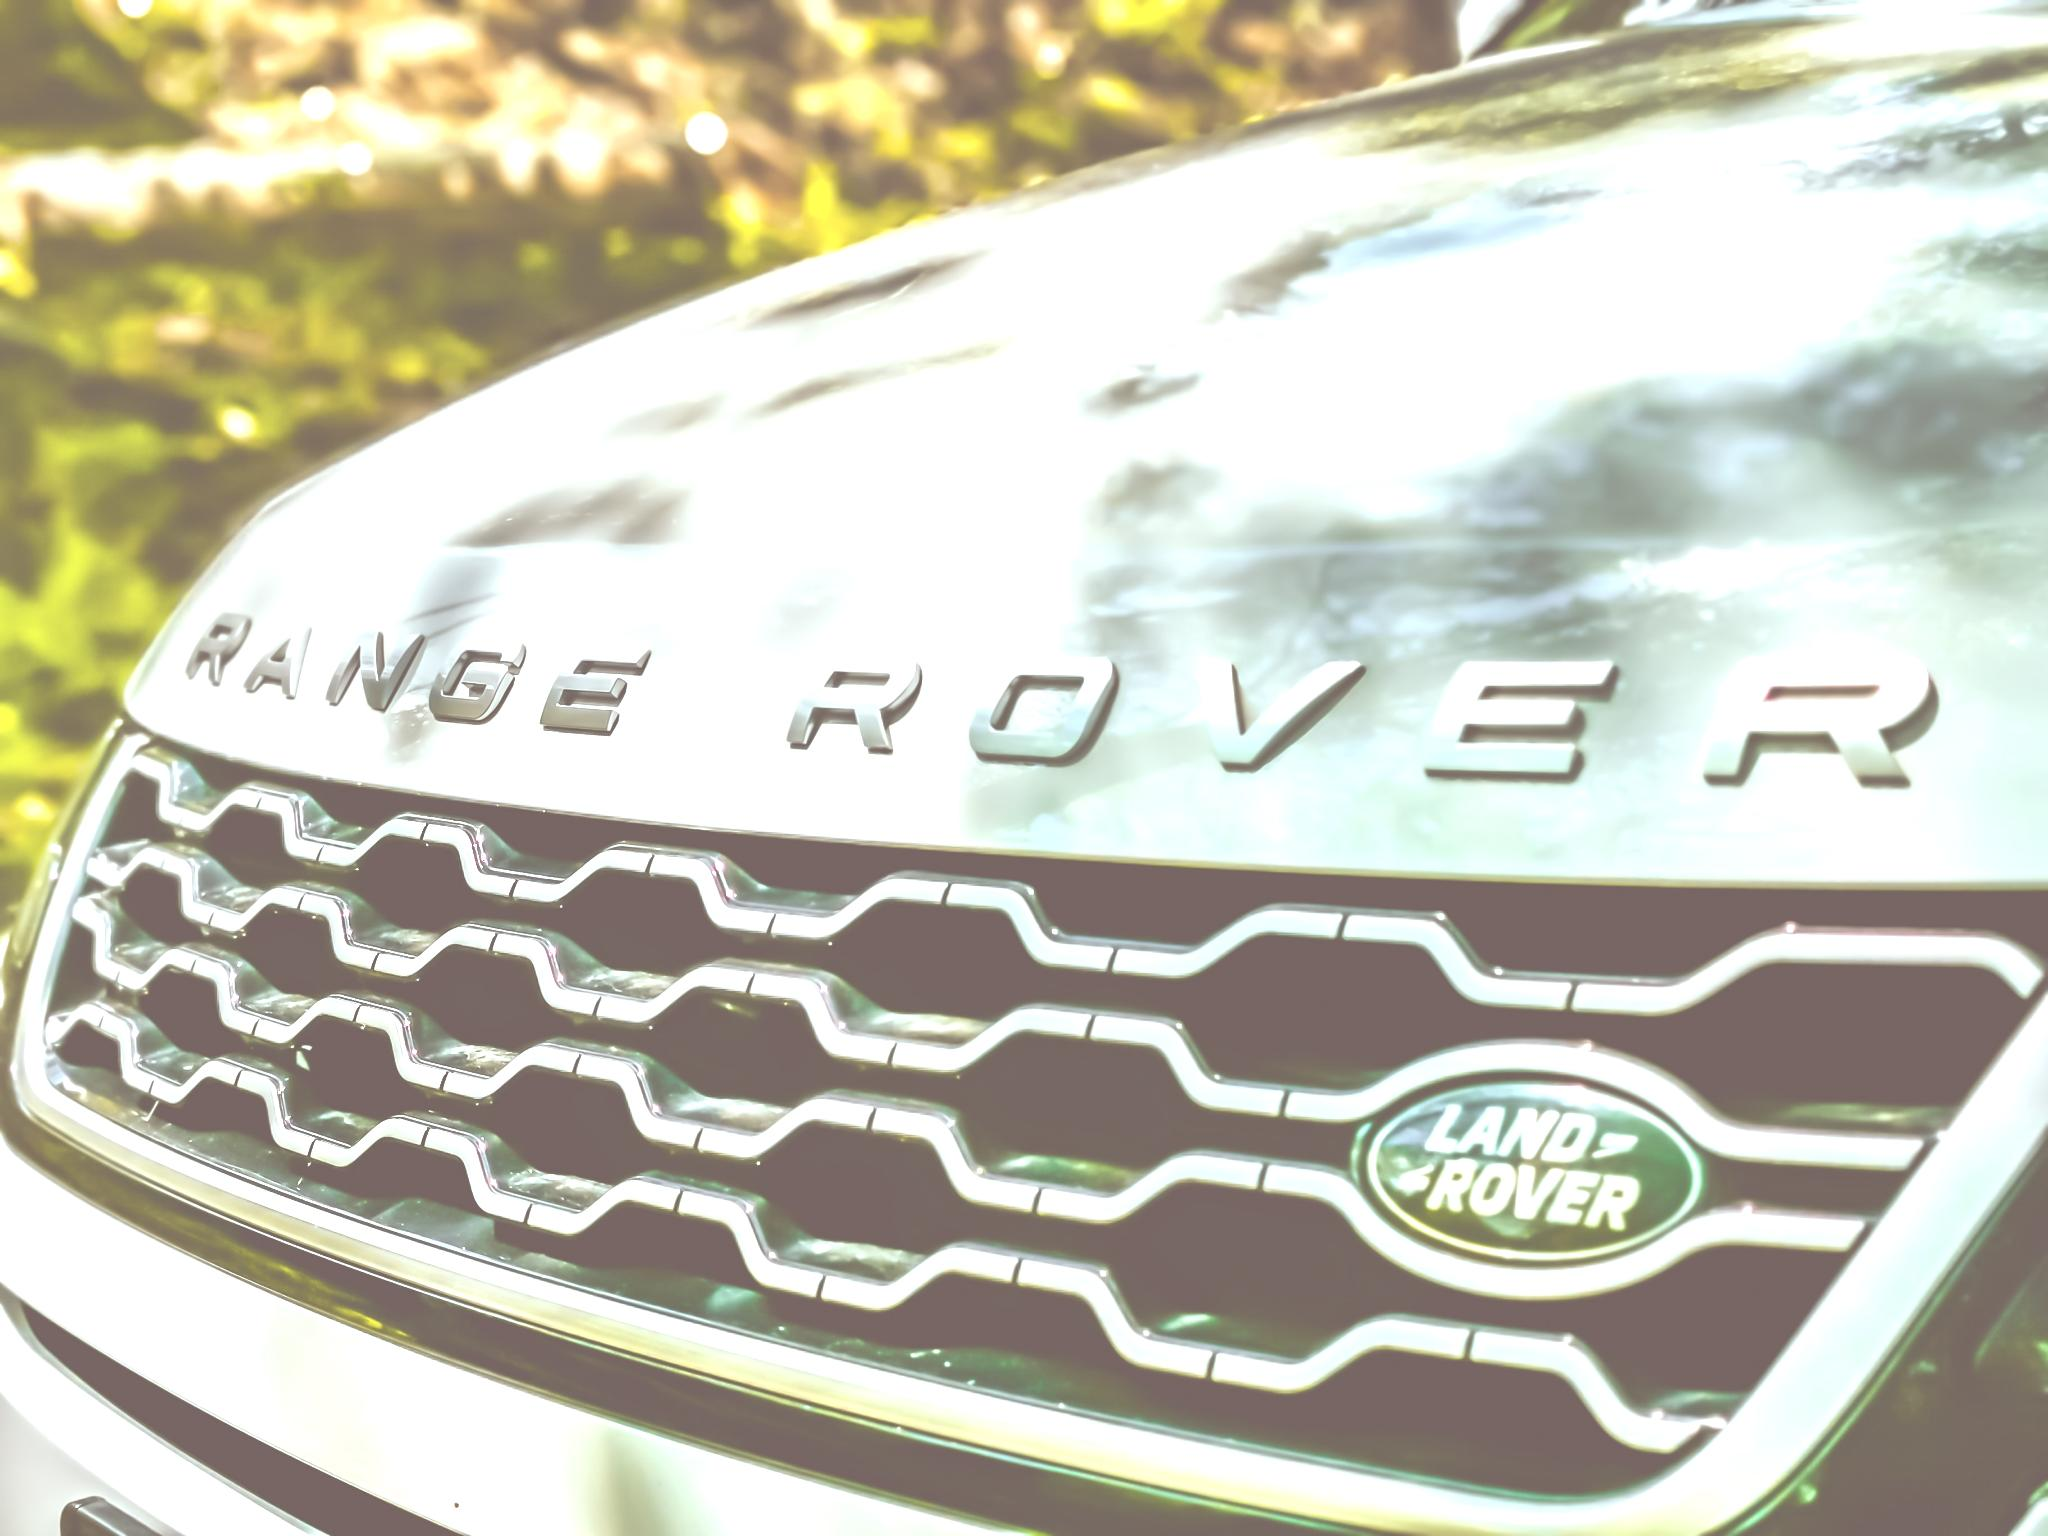range rover: (174, 582, 1996, 839)
